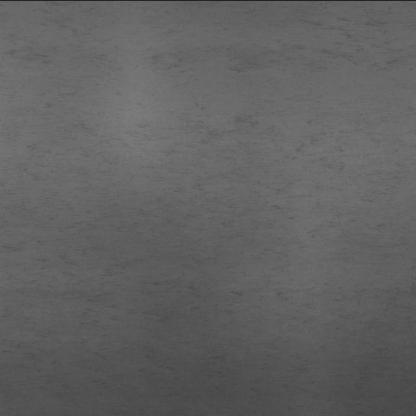silk_spot: (100, 116, 386, 331)
